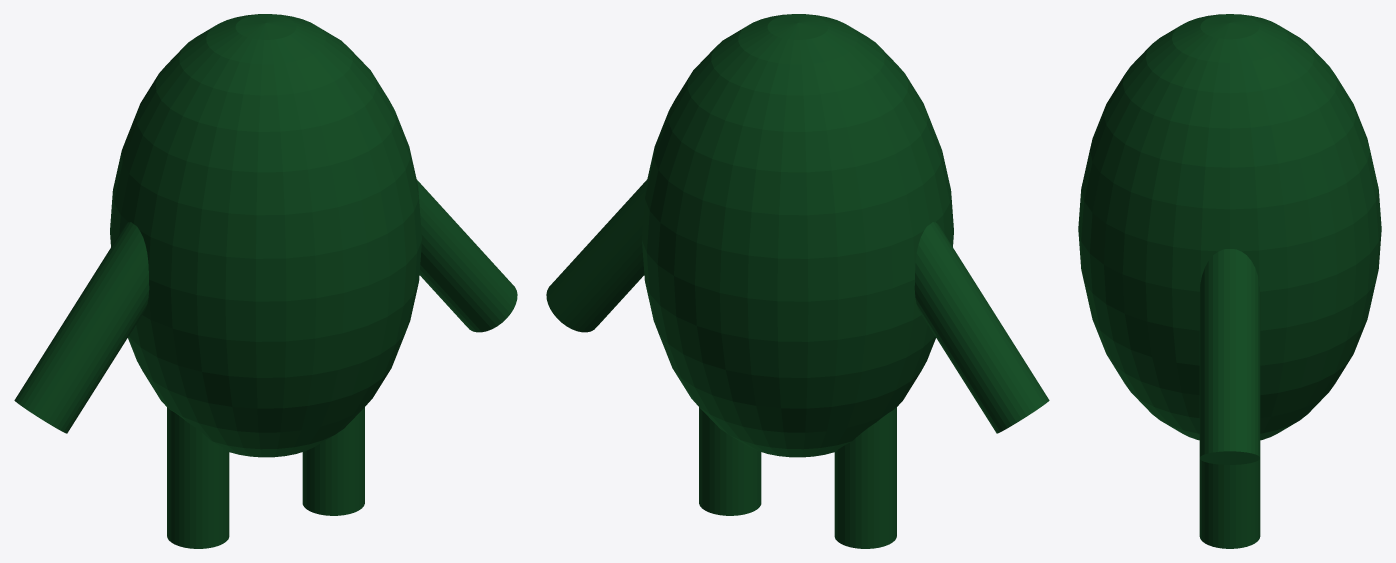
Rendered from tamer_3.glb.
3 views of the same model, side by side, from view 1: azimuth 30°, elevation 25°; view 2: azimuth 150°, elevation 25°; view 3: azimuth 270°, elevation 25° (orthographic). The views are drawn at different scales.
Visible parts, largest first — view 1: Sphere, Cylinder.003, Cylinder.002, Cylinder.001, Cylinder; view 2: Sphere, Cylinder.003, Cylinder.002, Cylinder.001, Cylinder; view 3: Sphere, Cylinder.002, Cylinder.
Part boxes in pixels (bbox=[...]): Sphere: bbox=[110, 14, 421, 457]; Cylinder.003: bbox=[14, 222, 149, 433]; Cylinder.002: bbox=[416, 179, 517, 332]; Cylinder.001: bbox=[167, 407, 229, 548]; Cylinder: bbox=[302, 407, 364, 515]; Sphere: bbox=[642, 14, 953, 457]; Cylinder.003: bbox=[914, 222, 1049, 433]; Cylinder.002: bbox=[546, 179, 647, 332]; Cylinder.001: bbox=[834, 407, 896, 548]; Cylinder: bbox=[699, 407, 761, 515]; Sphere: bbox=[1078, 14, 1381, 440]; Cylinder.002: bbox=[1199, 249, 1260, 464]; Cylinder: bbox=[1199, 459, 1260, 548].
Size of the model in its own units: 1.82 by 1.75 by 1.
